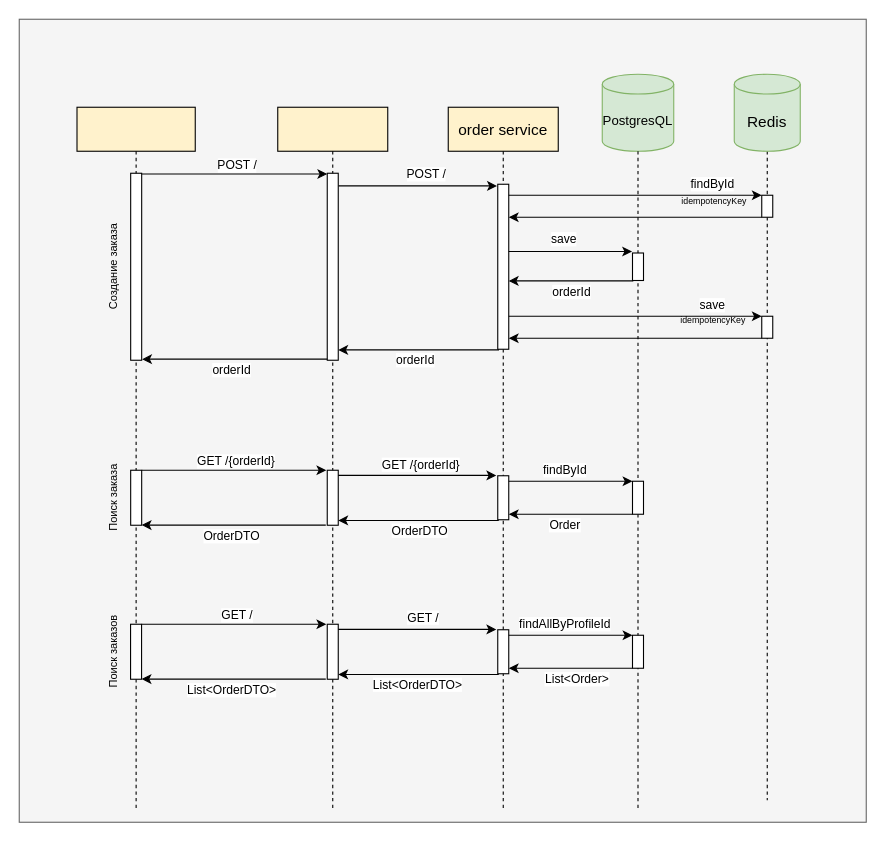
The diagram is 886 pixels wide and 842 high, and some of its shapes have lost their labels. The shapes that lost their labels are listed below. From the top down, each one's box as (x1, y1, x2, y2) in pixels, then its label:
(76, 106, 195, 811): user
(277, 106, 388, 811): API gateway
